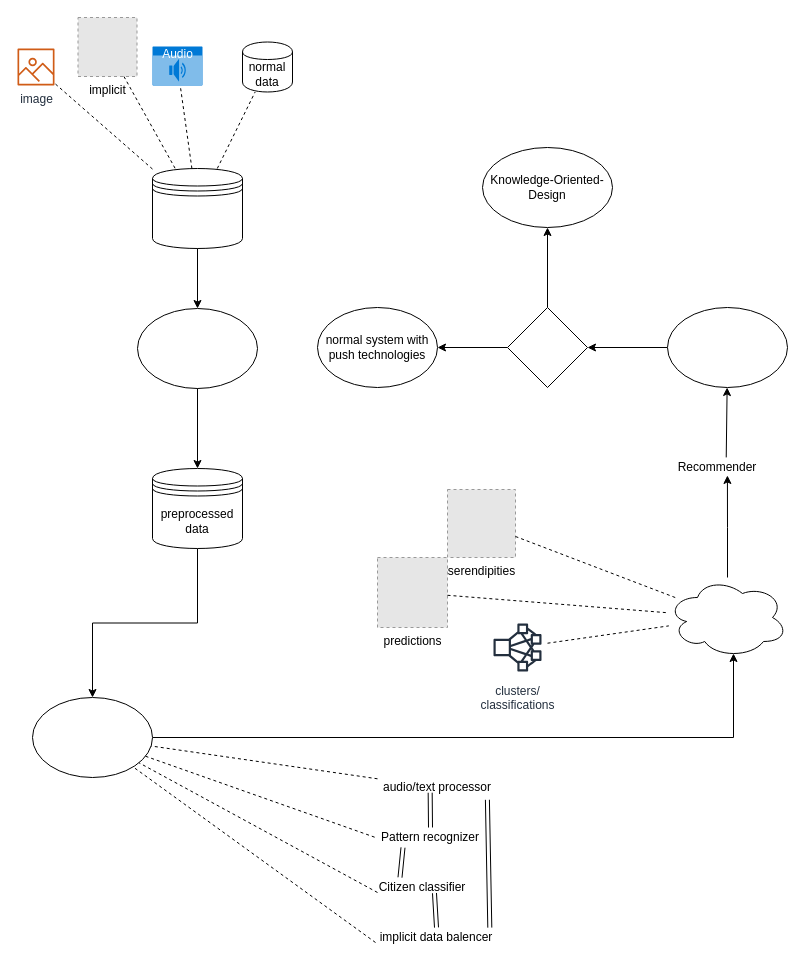
The diagram is 805 pixels wide and 965 high, and some of its shapes have lost their labels. Grey dashed boxes stand in for pictures. The shapes that lost their labels are listed below. From the top down, each one's centre as x and y in pixels, then its label:
pixel 197 208: raw data
pixel 197 348: preprocessor
pixel 727 347: personalized system
pixel 727 617: knowledges
pixel 92 737: main learner
